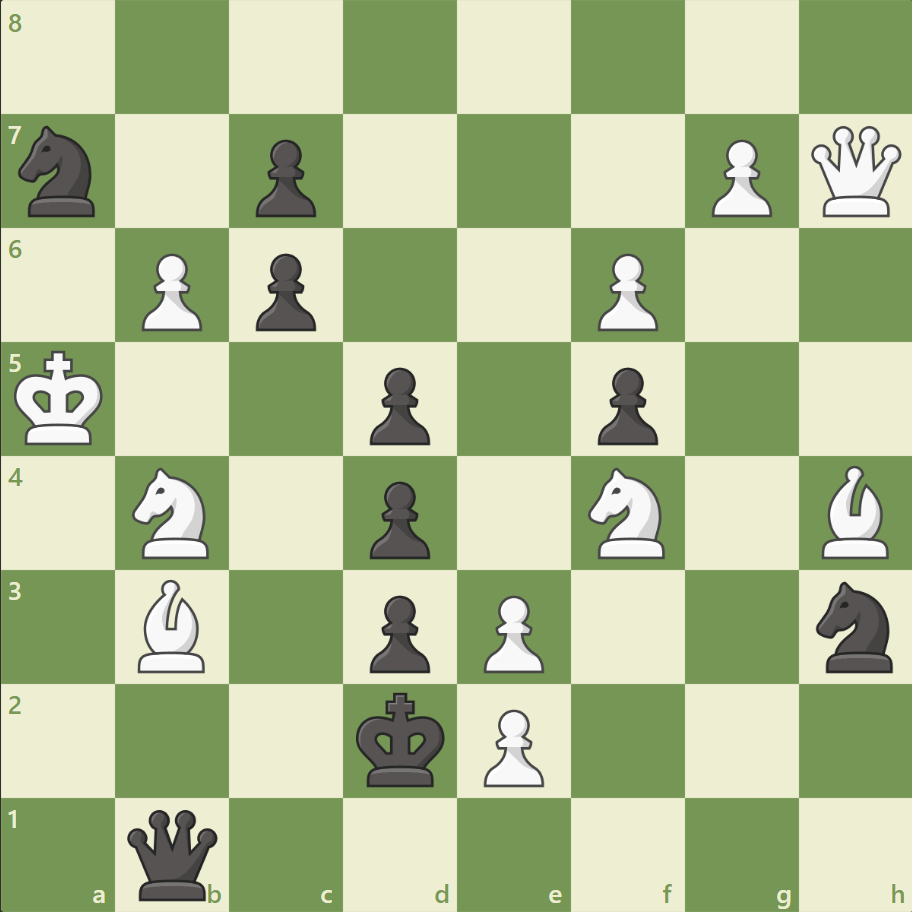B: (812, 460, 896, 563), (131, 574, 215, 676)
K: (11, 344, 111, 452)
N: (124, 461, 222, 564), (579, 461, 676, 564)
P: (701, 132, 776, 223), (133, 246, 208, 337), (474, 586, 549, 677), (474, 700, 549, 791), (588, 246, 662, 337)
Q: (805, 122, 904, 222)
k: (351, 685, 451, 793)
n: (11, 121, 108, 223), (806, 575, 903, 677)
p: (247, 132, 322, 223), (247, 246, 322, 337), (361, 359, 435, 450), (588, 359, 662, 450), (361, 473, 435, 564), (361, 586, 435, 677)
q: (124, 804, 223, 903)
